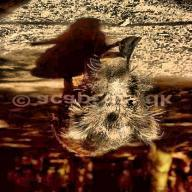boar: (52, 24, 179, 153)
